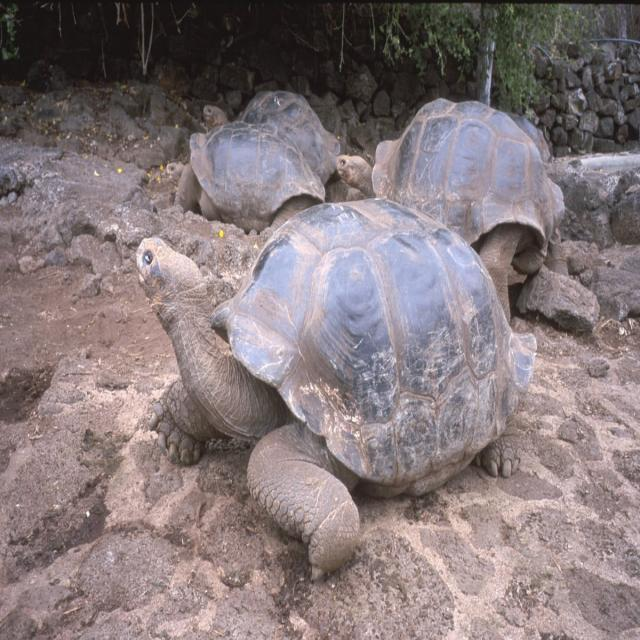Turtle: (126, 218, 530, 568), (372, 98, 570, 289), (193, 98, 340, 220)
